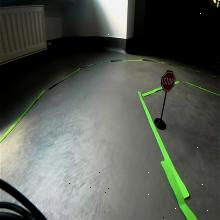stop: (161, 70, 176, 92)
